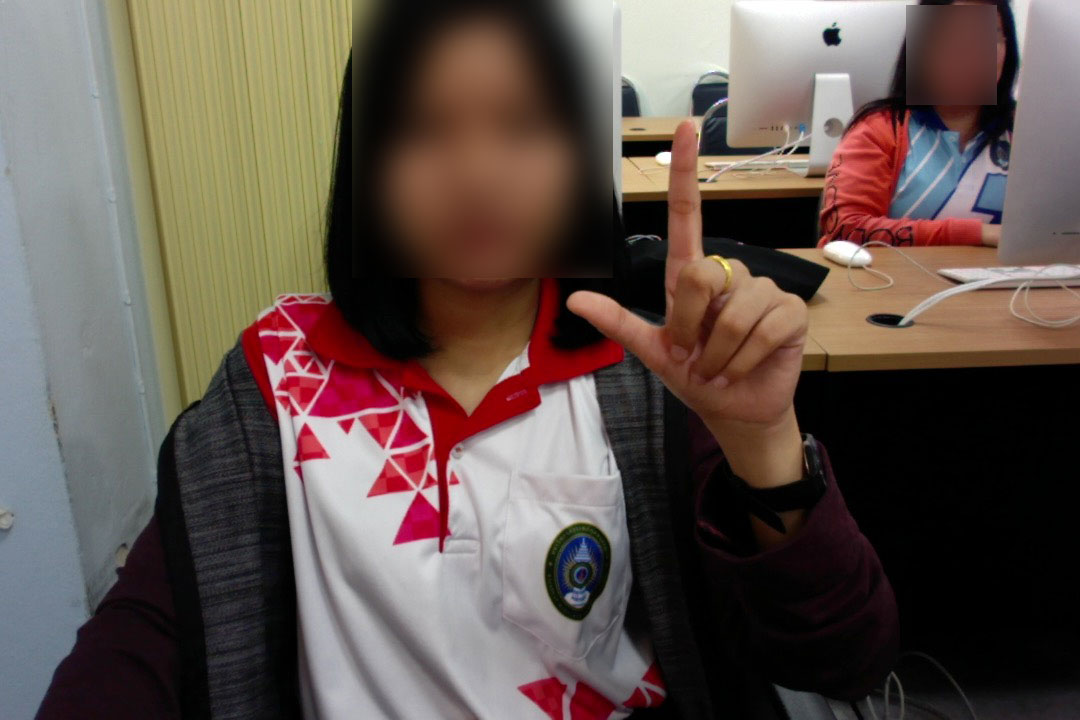lor: (557, 115, 824, 458)
